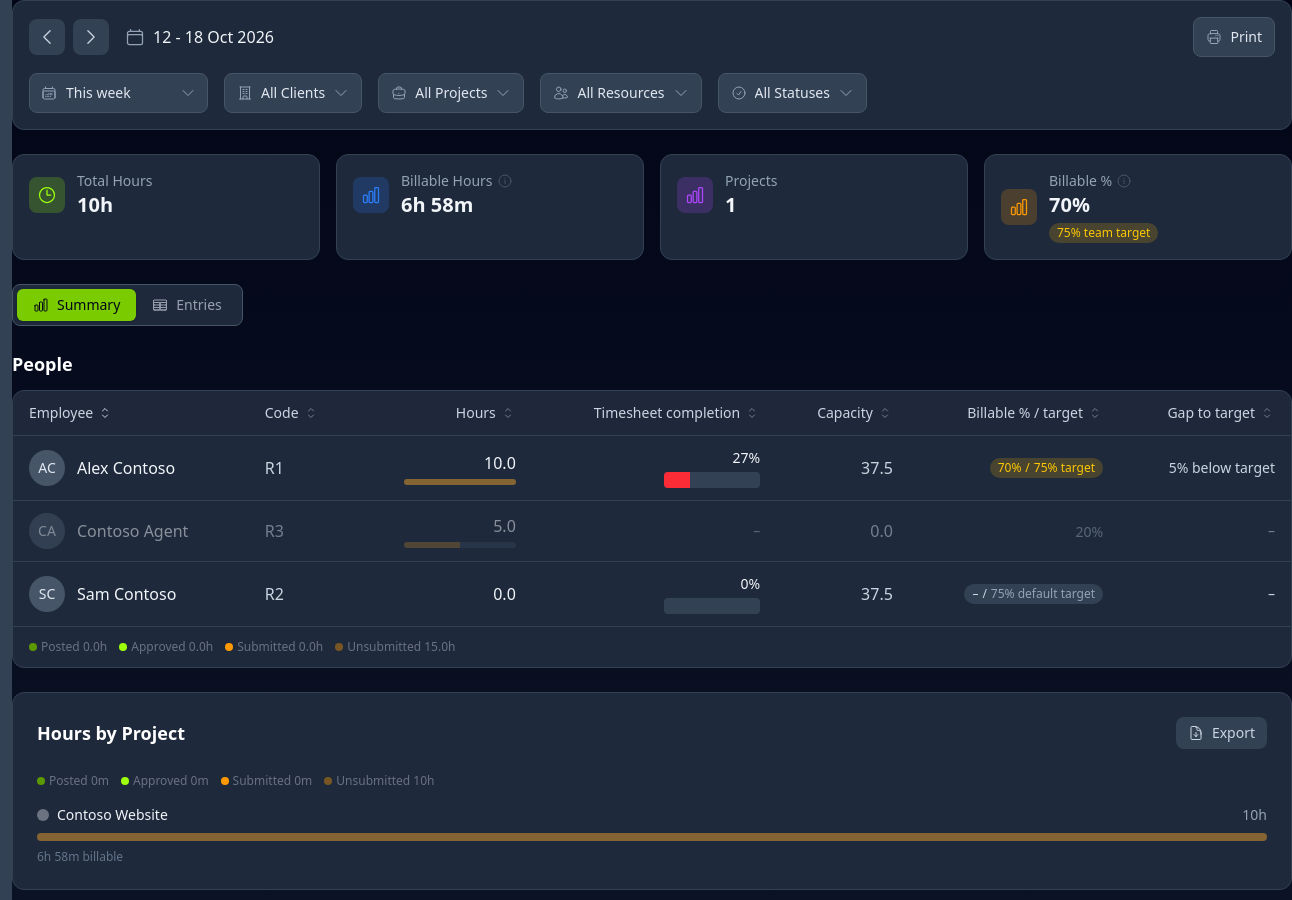
ReportsPanel › loads a whole year and breaks it down by month
Expected: the table is shown, [13,391,1291,626]
Select "Last year" in the dropdown named "Period": coordinates (118, 93) [29,73,208,113]
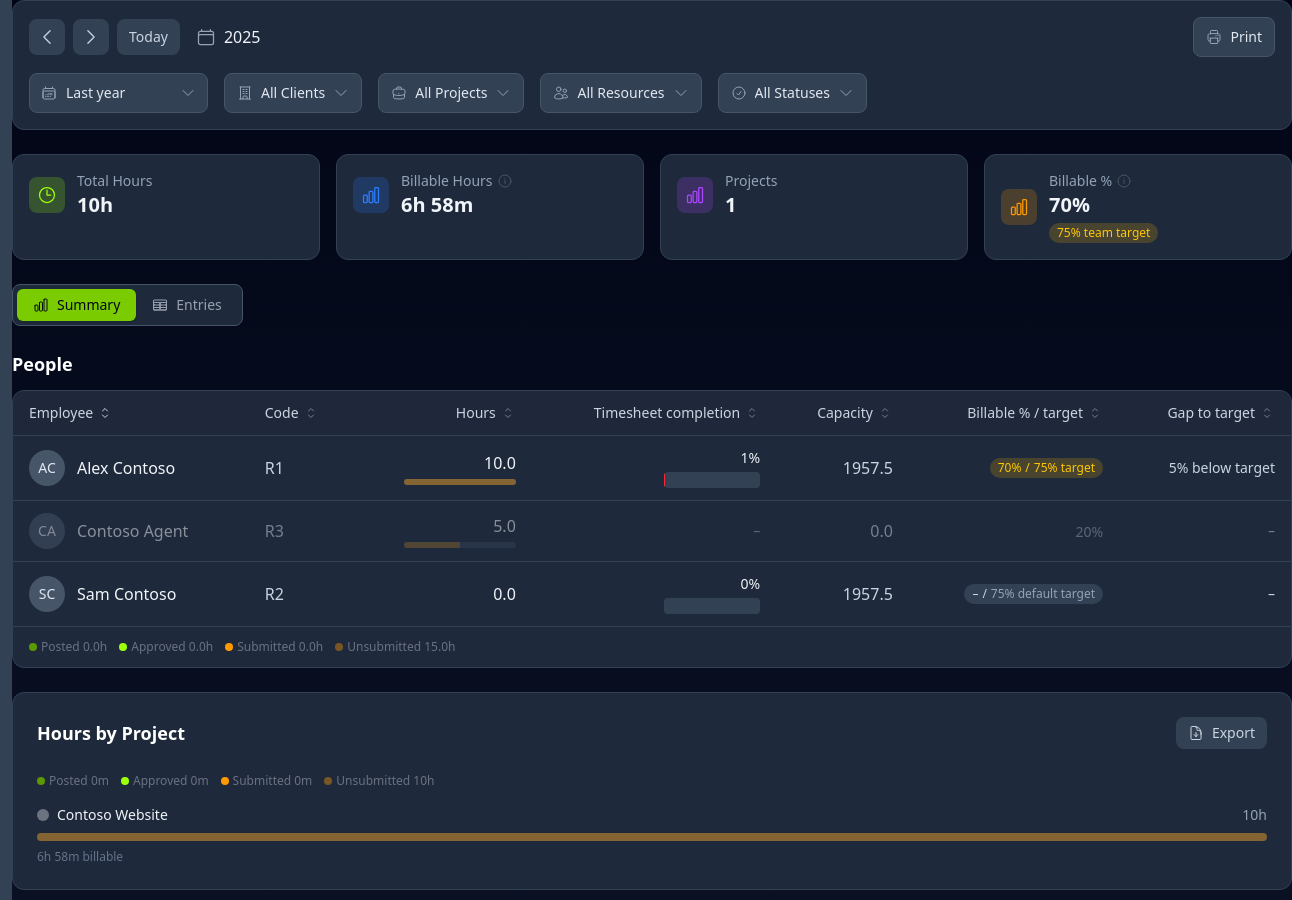
Now the text "2025" is shown, box [224,25,260,49]
